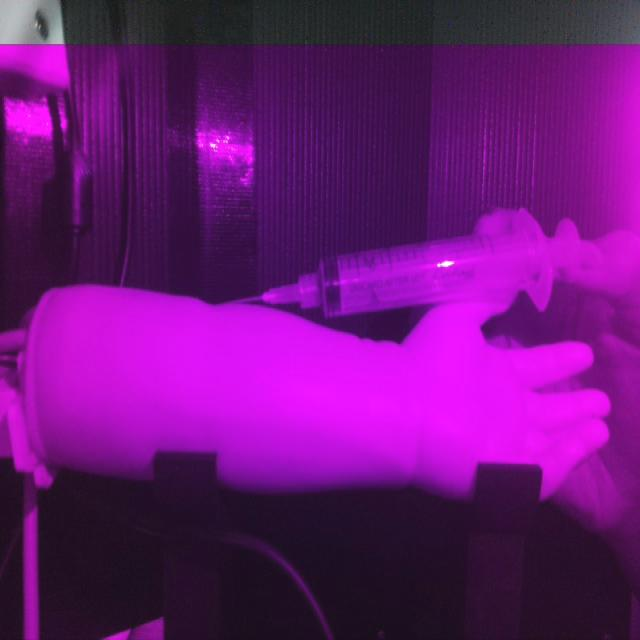Below 15 degrees: (228, 205, 584, 320)
